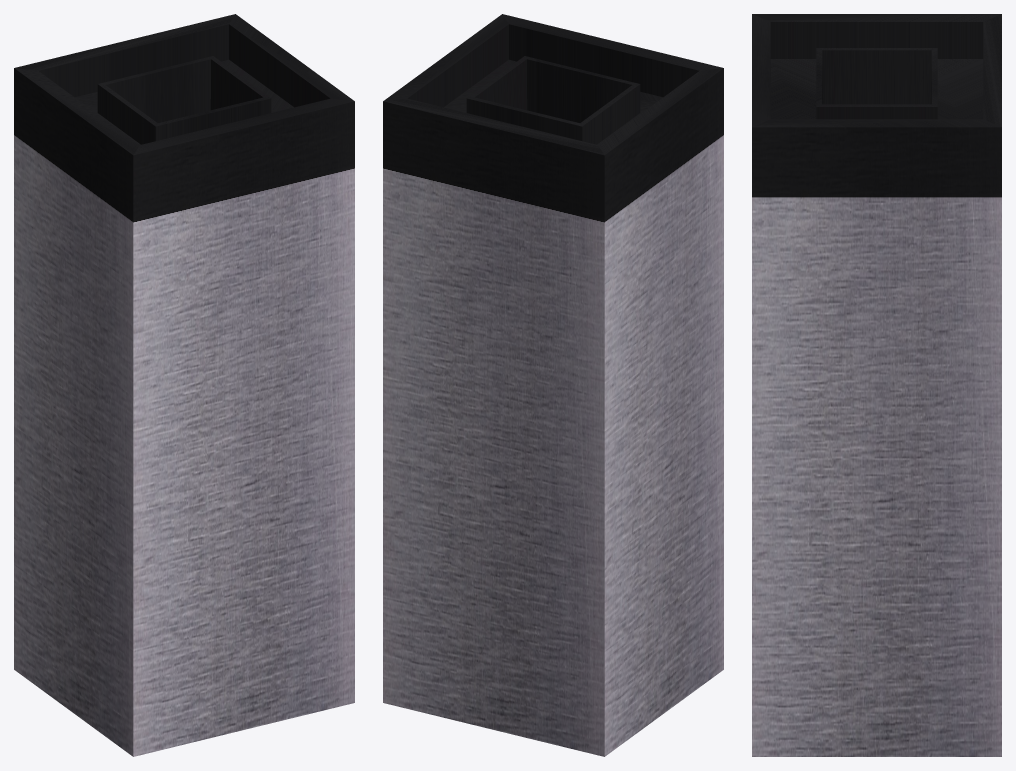
Rendered from caneca metalica.FBX.
3 views of the same model, side by side, from view 1: azimuth 30°, elevation 25°; view 2: azimuth 150°, elevation 25°; view 3: azimuth 270°, elevation 25° (orthographic). The views are drawn at different scales.
Visible parts, largest first — view 1: caneca; view 2: caneca; view 3: caneca.
Boxes of the visible parts, bbox=[...] form: caneca: bbox=[14, 14, 354, 756]; caneca: bbox=[383, 14, 723, 756]; caneca: bbox=[752, 14, 1001, 756].
Size of the model in its own units: 6.73 by 17.46 by 6.27.
